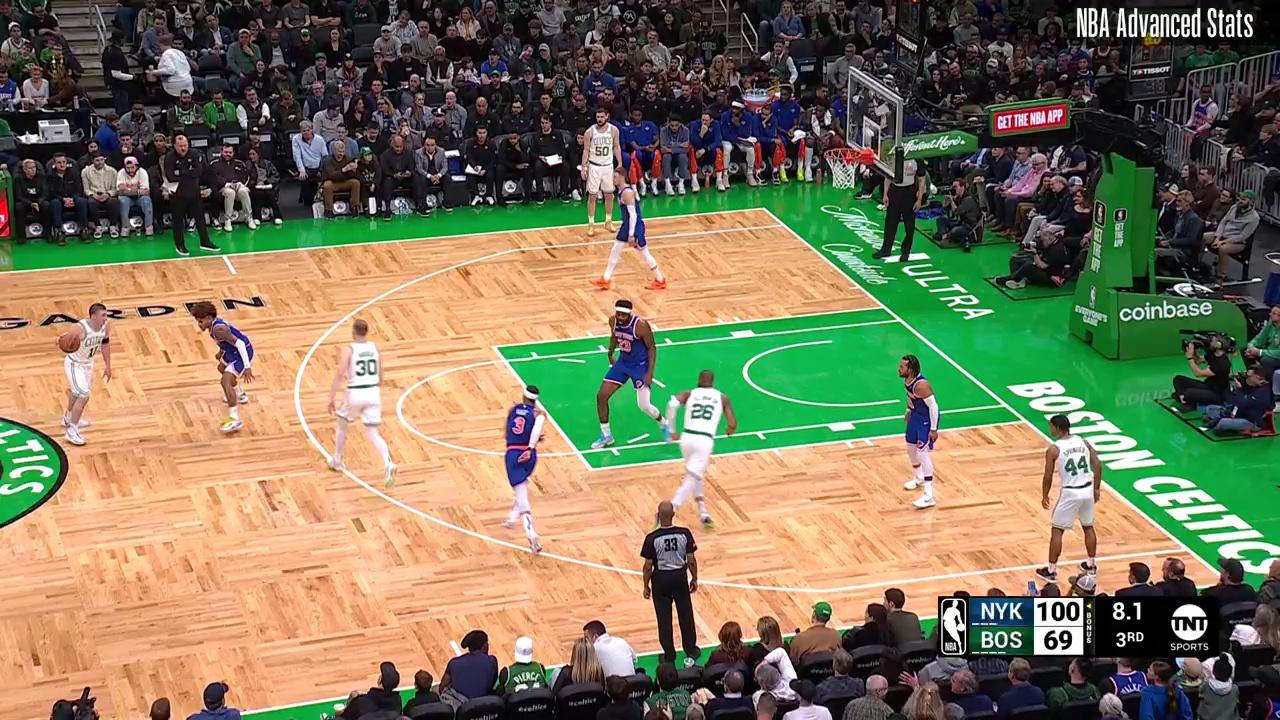3_dx: (1177, 540, 1197, 559)
3_sx: (778, 221, 789, 229)
b_sx: (758, 203, 769, 214)
free_adx: (584, 461, 600, 478)
free_asx: (487, 341, 503, 355)
free_bdx: (1016, 413, 1032, 427)
free_bsx: (876, 300, 892, 314)
mid_dx: (446, 635, 459, 647)
mid_sx: (230, 270, 240, 279)
referee: (642, 503, 703, 666), (870, 147, 926, 261)
team: (325, 318, 400, 494), (663, 366, 737, 528), (1037, 414, 1105, 581), (62, 303, 112, 449), (580, 106, 622, 238)
team1: (588, 297, 680, 449), (498, 386, 554, 558), (191, 299, 260, 435), (594, 168, 668, 292), (894, 350, 945, 513)
timer: (1109, 596, 1149, 627)
